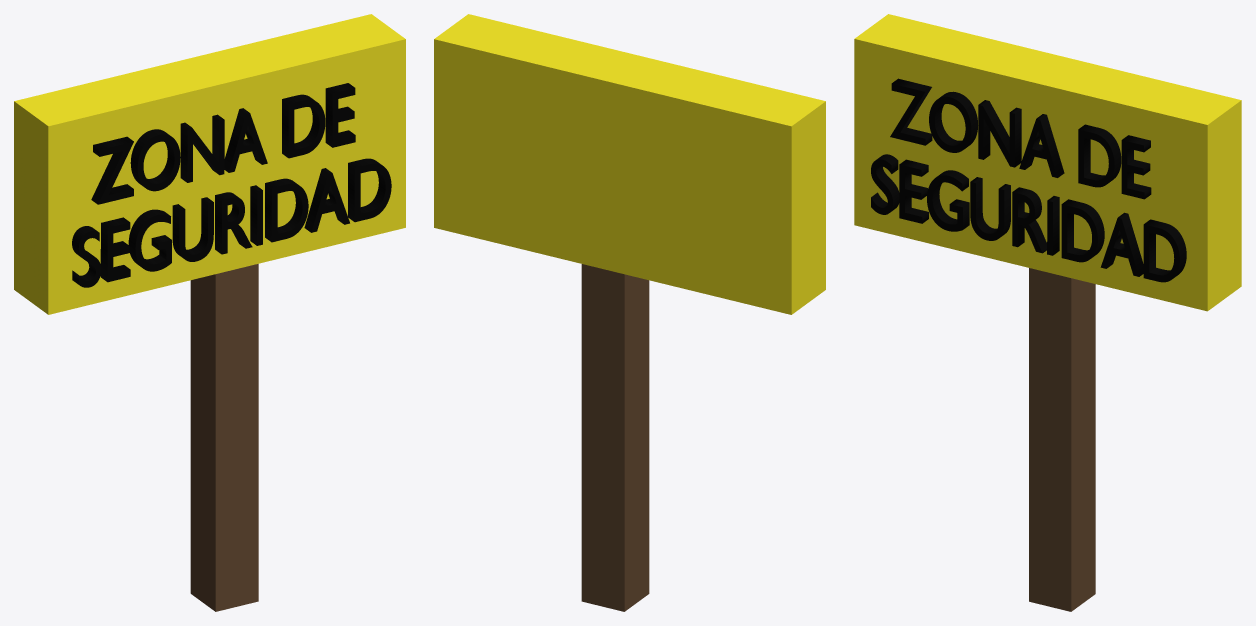
Rendered from ZonaSeguridad.glb.
3 renders of one model, left to right at view 1: azimuth 30°, elevation 25°; view 2: azimuth 150°, elevation 25°; view 3: azimuth 330°, elevation 25°, orthographic.
Visible parts, largest first — view 1: Cubo.003, Texto.001, Cubo.005; view 2: Cubo.003, Cubo.005; view 3: Cubo.003, Texto.001, Cubo.005.
Boxes of the visible parts, x1=… form: Cubo.003: x1=14, y1=14, x2=405, y2=314; Texto.001: x1=72, y1=83, x2=391, y2=287; Cubo.005: x1=190, y1=264, x2=258, y2=611; Cubo.003: x1=434, y1=14, x2=825, y2=314; Cubo.005: x1=581, y1=264, x2=649, y2=611; Cubo.003: x1=854, y1=14, x2=1241, y2=311; Texto.001: x1=871, y1=78, x2=1186, y2=282; Cubo.005: x1=1029, y1=268, x2=1095, y2=611.
Size of the model in its own units: 2.56 by 3.63 by 0.5112.
